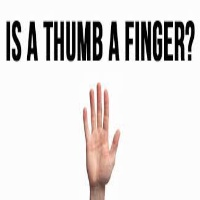ring: (86, 89, 98, 135)
